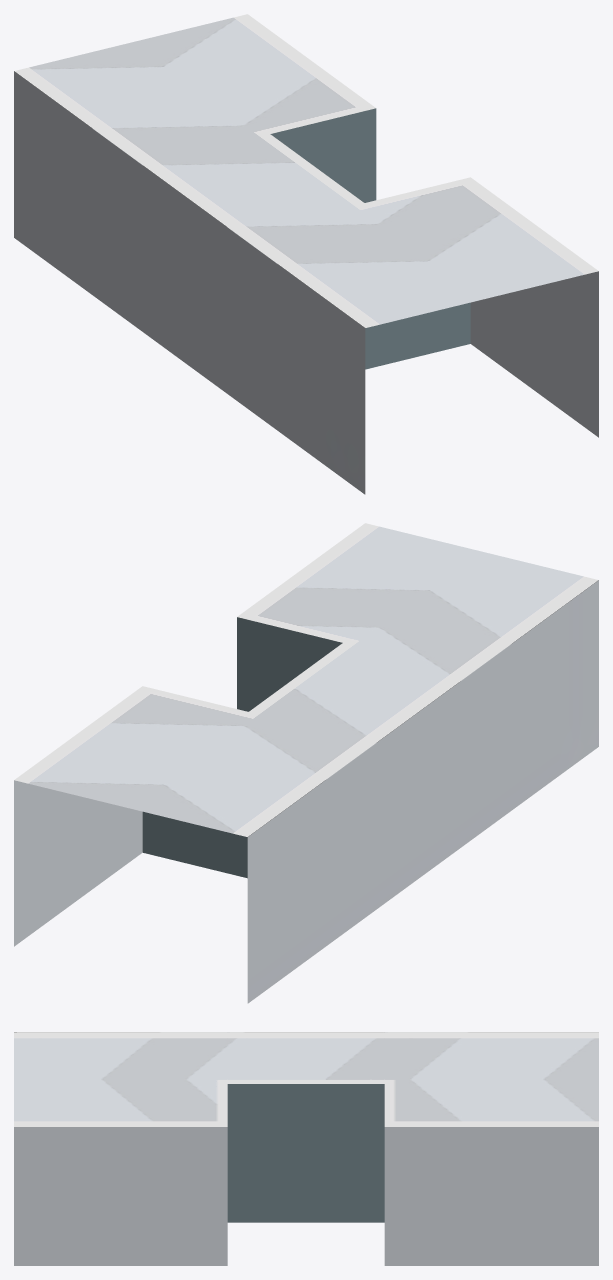
Rendered from Path Holes scale.fbx.
3 views of the same model, one above another, from view 1: azimuth 30°, elevation 25°; view 2: azimuth 150°, elevation 25°; view 3: azimuth 270°, elevation 25° (orthographic). The views are drawn at different scales.
Parts seen in each view (by area): view 1: Path_Left; view 2: Path_Left; view 3: Path_Left.
Part boxes in pixels (left/top/right/bottom): Path_Left: left=14, top=14, right=598, bottom=494; Path_Left: left=14, top=523, right=598, bottom=1003; Path_Left: left=14, top=1032, right=598, bottom=1265.
Bounding box in the file's own units: 2724 × 1856 × 7092.
Materials: 1 (1 with a texture image).
